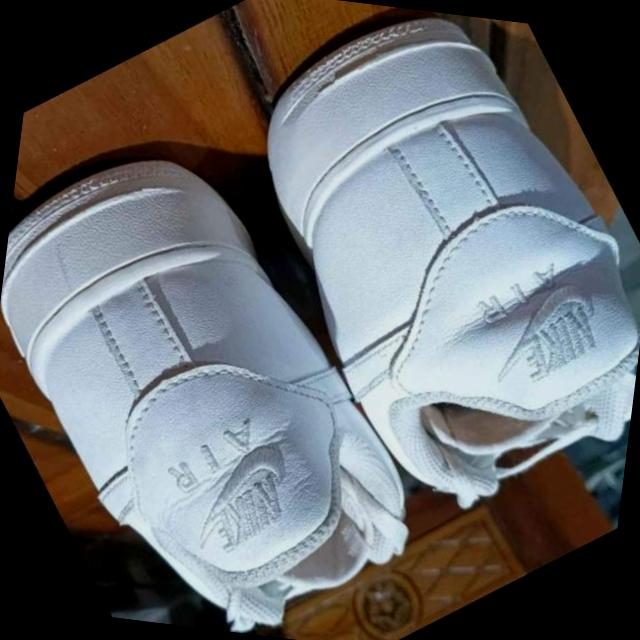nike_fake_airforce: (0, 83, 490, 640), (159, 0, 640, 566)
